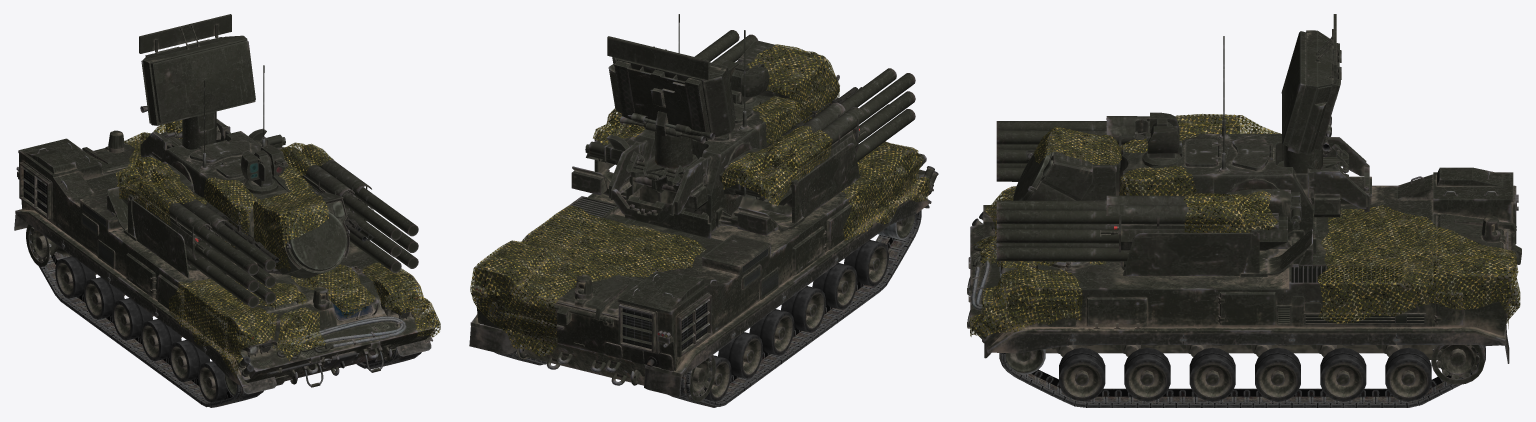
Rendered from pantsir_s-1__mwt_tank_battles.glb.
3 renders of one model, left to right at view 1: azimuth 30°, elevation 25°; view 2: azimuth 150°, elevation 25°; view 3: azimuth 270°, elevation 25°, orthographic. The views are drawn at different scales.
Visible parts, largest first — view 1: Object_4, Object_2, Object_7, Object_3, Object_5, Object_6; view 2: Object_4, Object_2, Object_7, Object_3, Object_5, Object_6; view 3: Object_4, Object_2, Object_7, Object_3, Object_5, Object_6.
Part boxes in pixels (x1,y1,x2,y2): Object_4: (15,120,439,387); Object_2: (107,14,417,402); Object_7: (115,120,440,378); Object_3: (26,80,418,385); Object_5: (14,186,431,394); Object_6: (29,227,421,407); Object_4: (470,142,938,385); Object_2: (484,14,914,359); Object_7: (470,44,929,356); Object_3: (585,30,929,401); Object_5: (469,87,929,397); Object_6: (486,210,921,407); Object_4: (967,167,1521,359); Object_2: (1005,14,1484,401); Object_7: (969,114,1520,336); Object_3: (996,36,1301,261); Object_5: (984,147,1509,363); Object_6: (999,333,1485,407).
Bounding box in the file's own units: 3.74 × 5.06 × 8.
3 materials, 3 textured.
